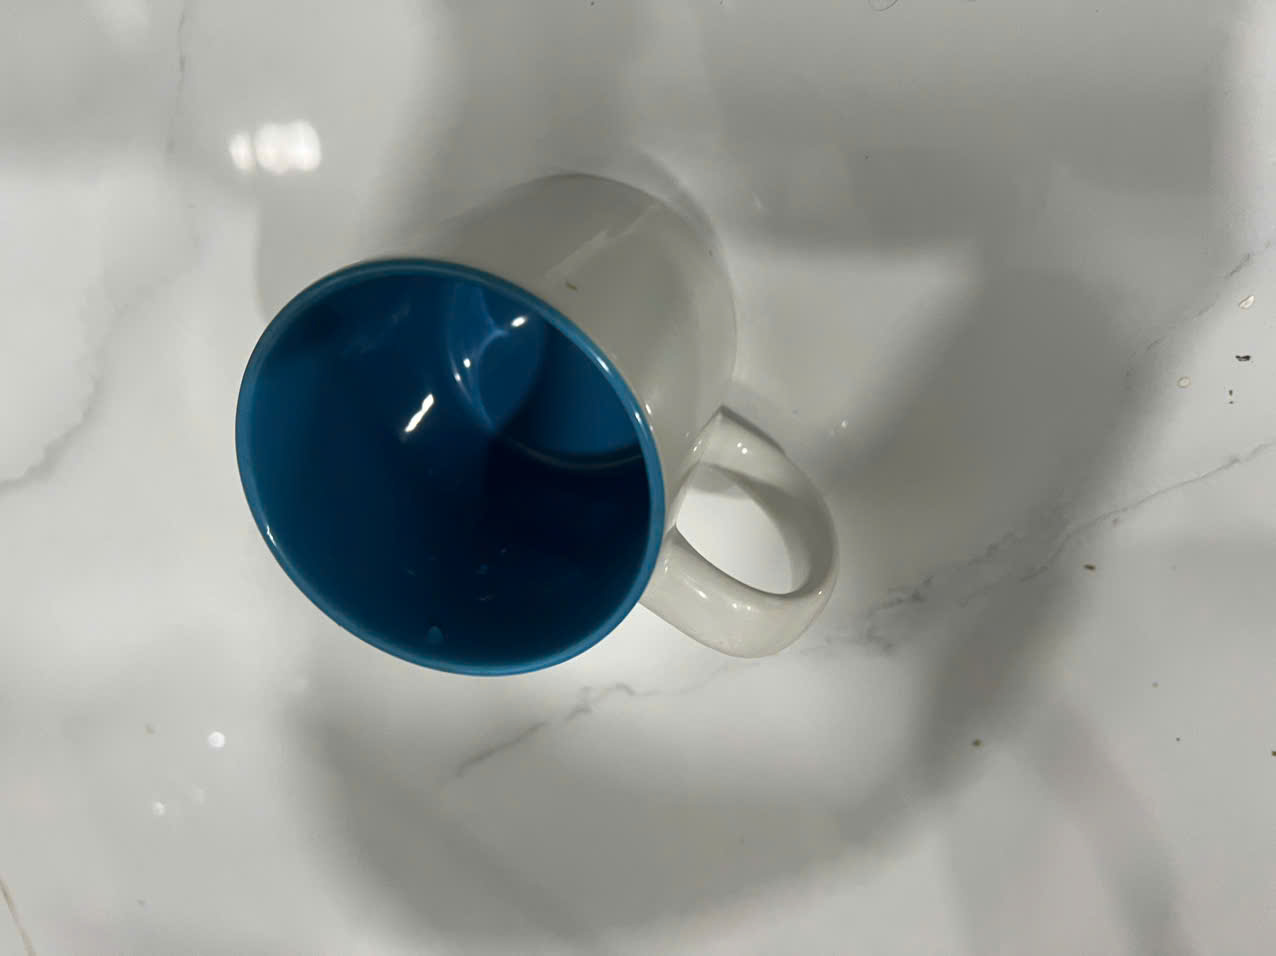ly coc: (192, 170, 873, 698)
